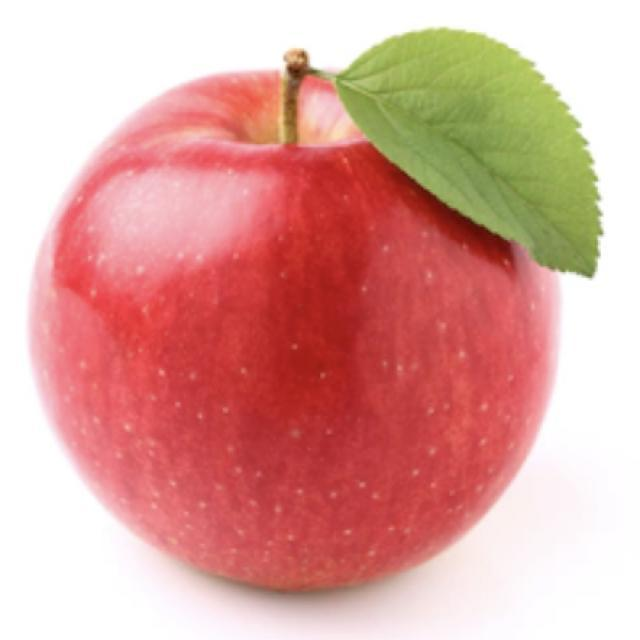Fresh Apple: (77, 73, 550, 590)
